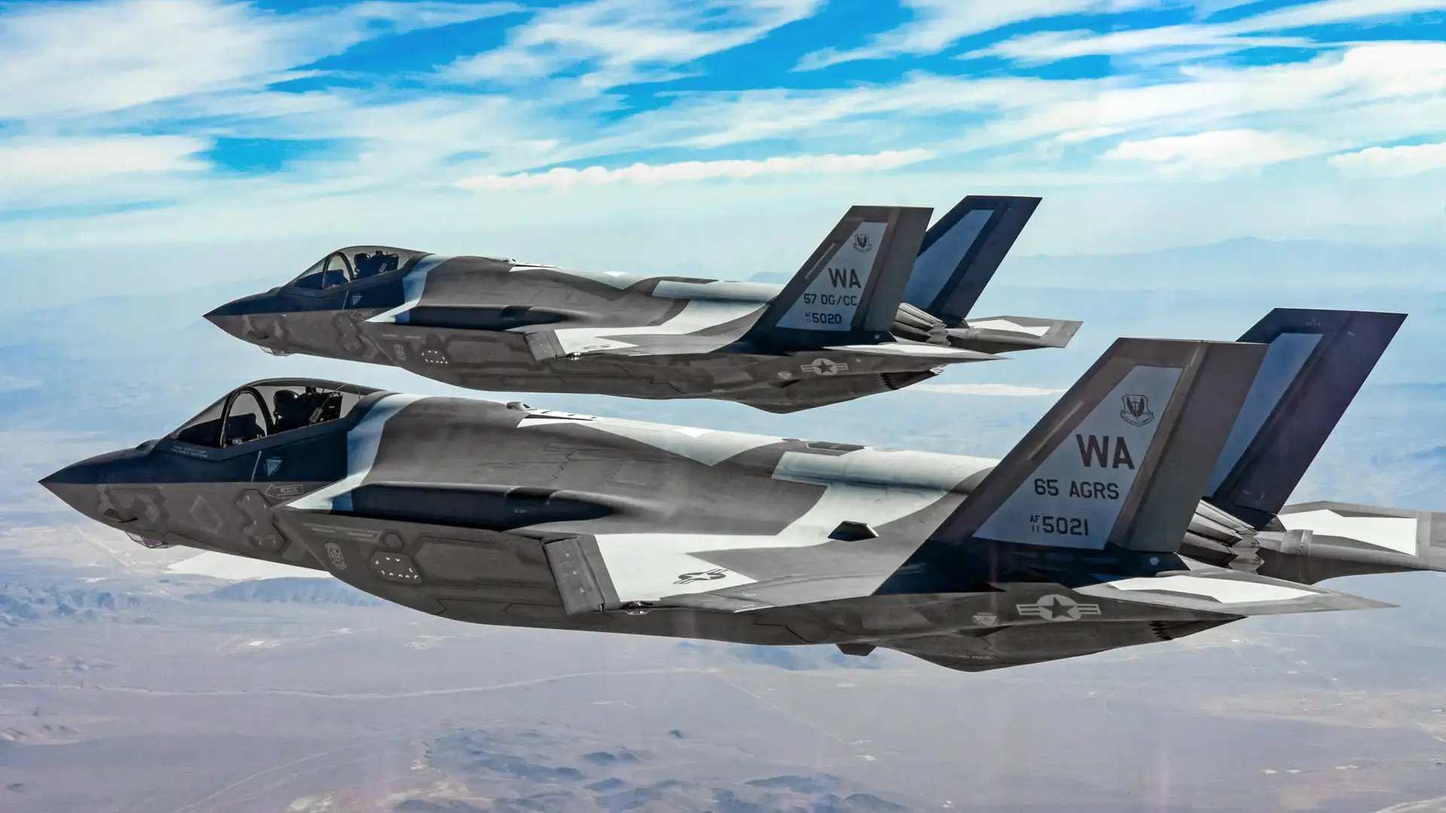F35: (34, 305, 1446, 676), (200, 190, 1086, 419)
